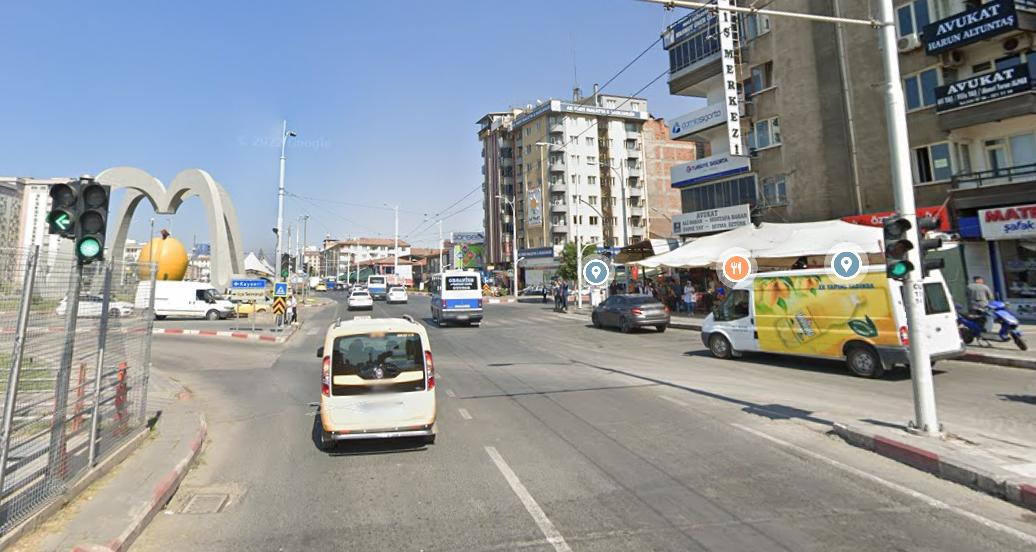greenlight: (73, 182, 106, 260), (884, 217, 915, 282)
